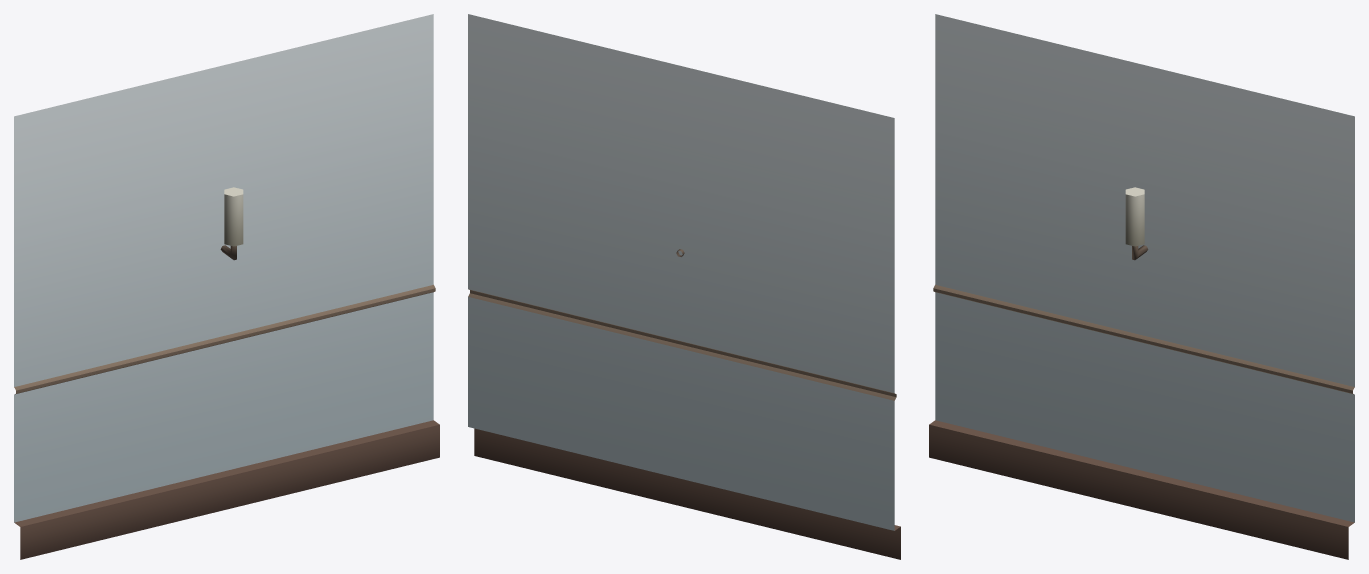
Rendered from Wall_trim.fbx.
The picture shows the model from 3 angles, left to right: view 1: azimuth 30°, elevation 25°; view 2: azimuth 150°, elevation 25°; view 3: azimuth 330°, elevation 25°; orthographic projection.
Parts seen in each view (by area): view 1: Wall_trim; view 2: Wall_trim; view 3: Wall_trim.
Boxes of the visible parts, x1,y1,x2,y2 form: Wall_trim: (14,14,439,559); Wall_trim: (468,14,900,559); Wall_trim: (929,14,1354,559).
Size of the model in its own units: 300 by 300 by 20.53.
